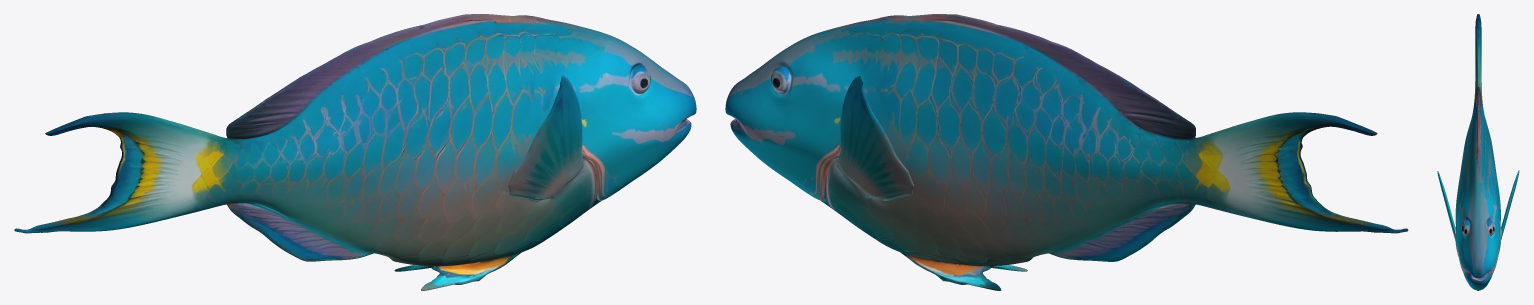
3 views of the same model, side by side, from view 1: azimuth 30°, elevation 25°; view 2: azimuth 150°, elevation 25°; view 3: azimuth 270°, elevation 25° (orthographic). The views are drawn at different scales.
Visible parts, largest first — view 1: Object_4; view 2: Object_4; view 3: Object_4.
Boxes of the visible parts, box(x1,y1,x2,y2) form: Object_4: box(14, 14, 696, 290); Object_4: box(725, 14, 1408, 290); Object_4: box(1437, 14, 1519, 290).
Size of the model in its own units: 1.2 by 0.4368 by 0.2148.
Materials: 1 (1 with a texture image).
